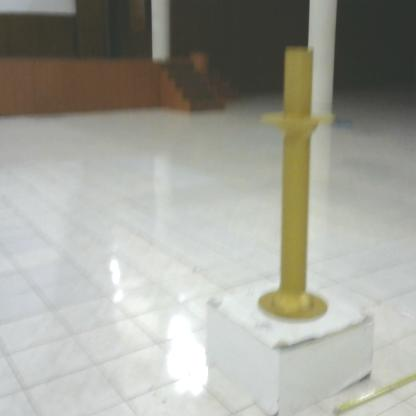pole: (257, 38, 341, 327)
